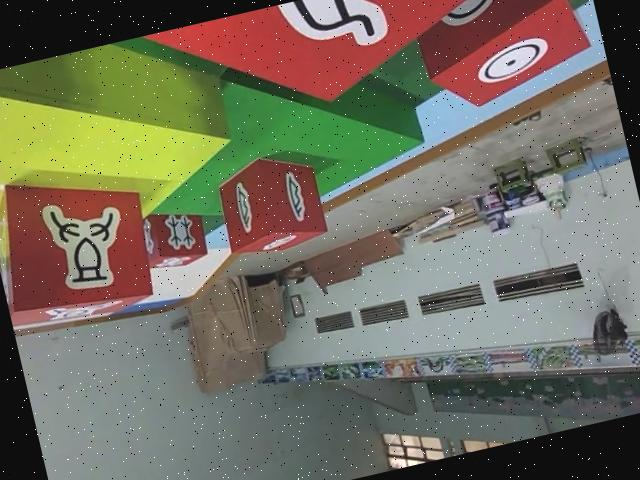R2 Real: (135, 0, 551, 143), (0, 152, 162, 336), (406, 0, 600, 115), (210, 147, 328, 262), (136, 197, 208, 273)
